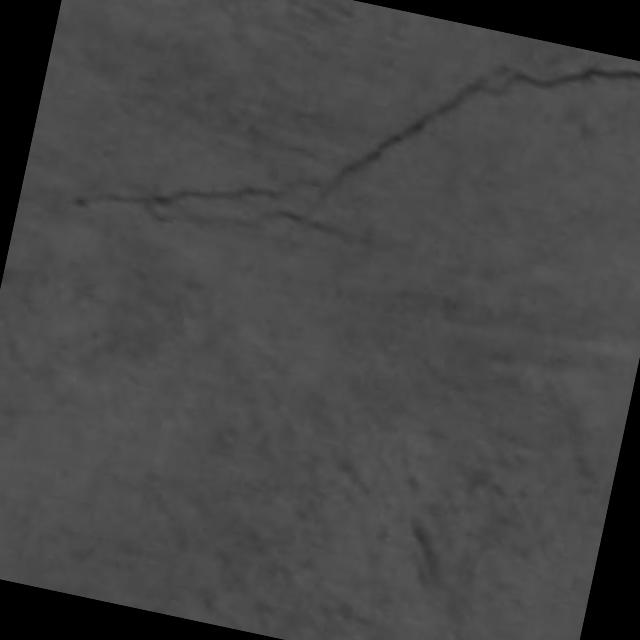crack: (75, 64, 639, 210), (319, 65, 639, 198), (75, 180, 314, 210)
